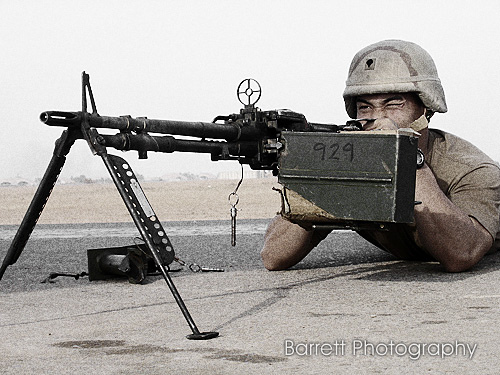rifle: (34, 81, 278, 241)
rifle in hand: (25, 112, 450, 266)
